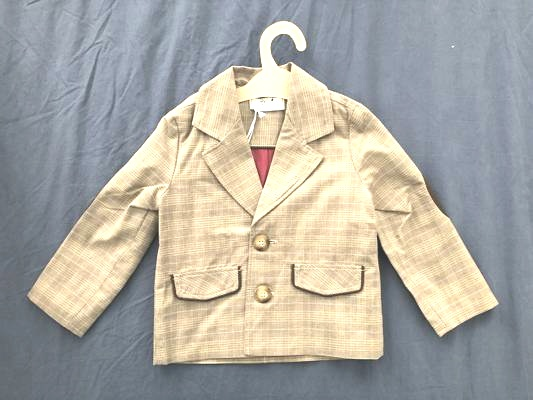Blazer: (57, 43, 495, 374)
